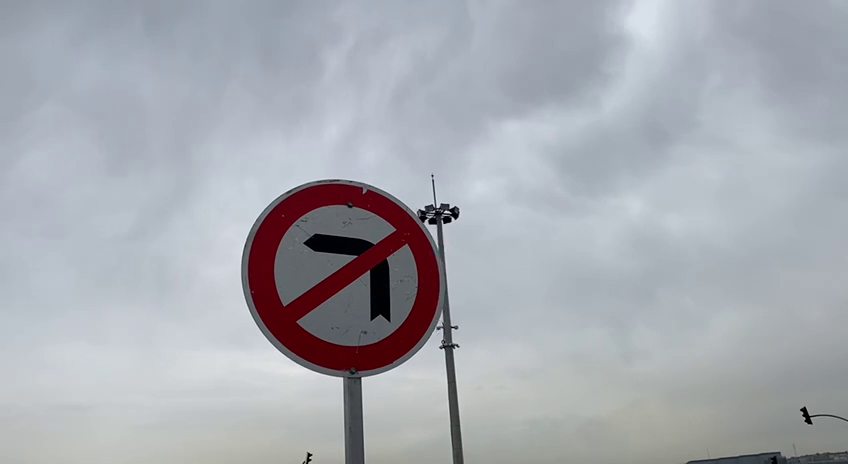noTurnLeft: (230, 170, 451, 382)
